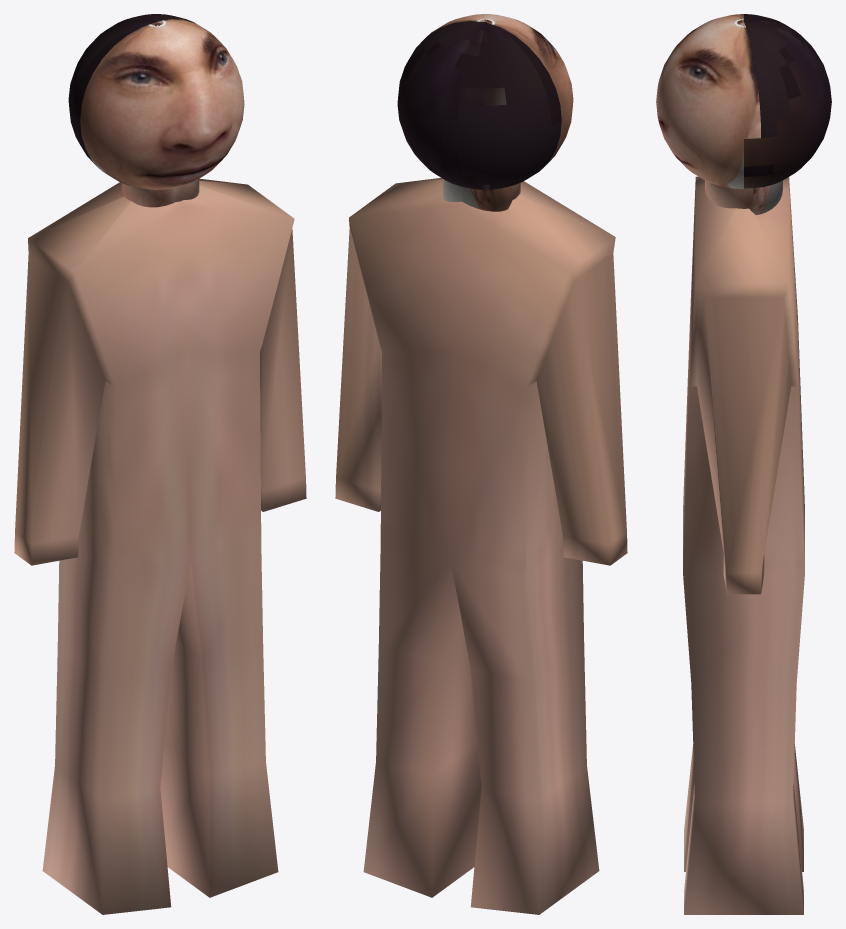
The model's file is fun man.glb.
3 views of the same model, side by side, from view 1: azimuth 30°, elevation 25°; view 2: azimuth 150°, elevation 25°; view 3: azimuth 270°, elevation 25° (orthographic).
Parts seen in each view (by area): view 1: Cube, Sphere, Cylinder; view 2: Cube, Sphere, Cylinder; view 3: Cube, Sphere, Cylinder.
Part boxes in pixels (left/top/right/bottom): Cube: left=14, top=178, right=306, bottom=914; Sphere: left=68, top=14, right=244, bottom=189; Cylinder: left=121, top=179, right=199, bottom=207; Cube: left=335, top=178, right=627, bottom=914; Sphere: left=397, top=14, right=573, bottom=189; Cylinder: left=442, top=179, right=520, bottom=211; Cube: left=683, top=176, right=804, bottom=914; Sphere: left=656, top=14, right=831, bottom=188; Cylinder: left=705, top=180, right=782, bottom=214.
Bounding box in the file's own units: 17.87 × 53.38 × 9.92.
2 materials, 2 textured.
